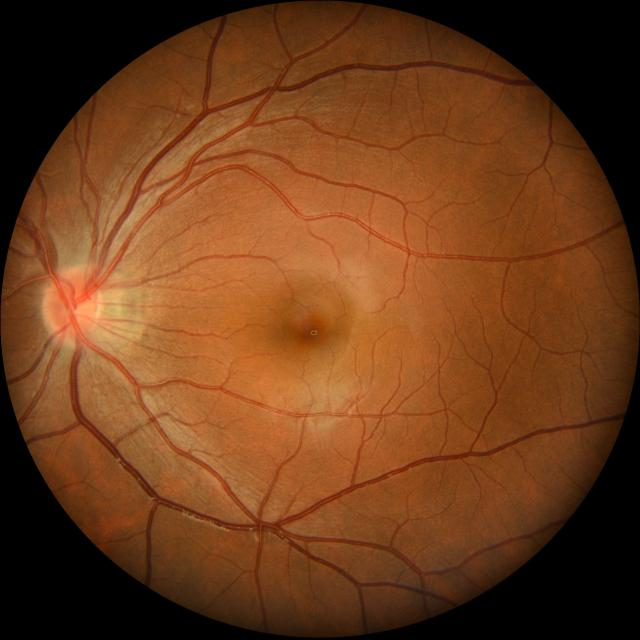OC: (69, 302, 85, 318)
OD: (44, 267, 102, 342)
